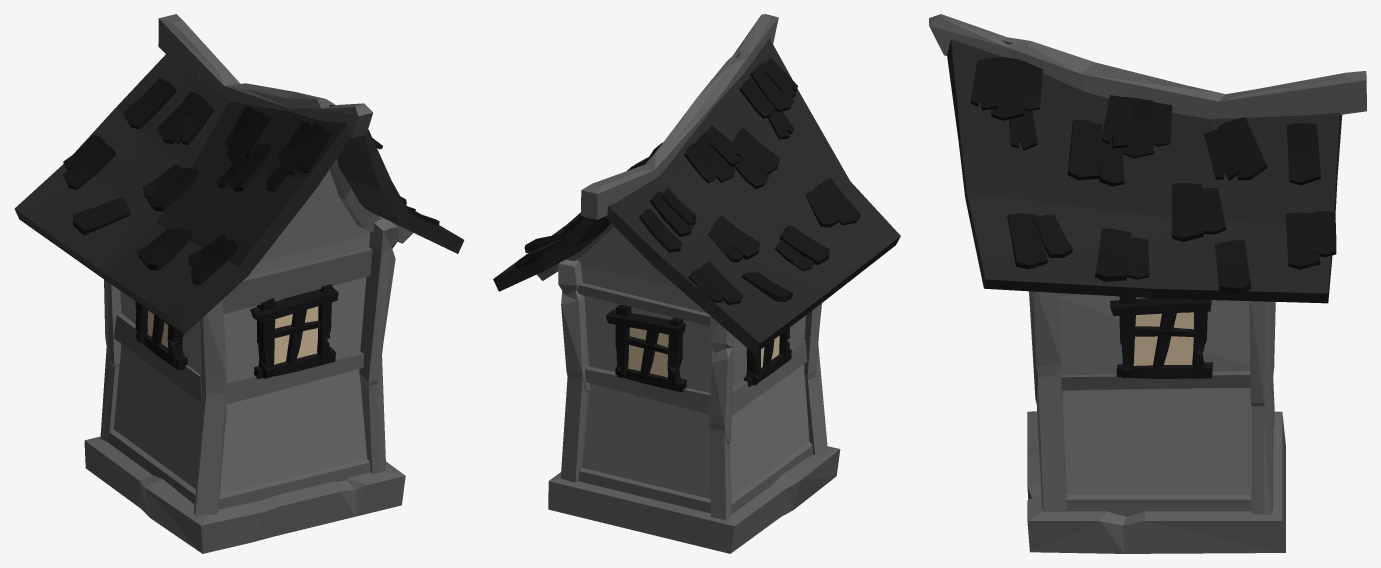
File: WF_LP_HT_Build_HouseRoom.005.1.fbx
The picture shows the model from 3 angles, left to right: view 1: azimuth 30°, elevation 25°; view 2: azimuth 150°, elevation 25°; view 3: azimuth 270°, elevation 25°; orthographic projection. The views are drawn at different scales.
Visible parts, largest first — view 1: WF_LP_HT_Build_HouseRoom.005.1; view 2: WF_LP_HT_Build_HouseRoom.005.1; view 3: WF_LP_HT_Build_HouseRoom.005.1.
Boxes of the visible parts, x1=… form: WF_LP_HT_Build_HouseRoom.005.1: x1=14, y1=14, x2=464, y2=553; WF_LP_HT_Build_HouseRoom.005.1: x1=493, y1=14, x2=900, y2=553; WF_LP_HT_Build_HouseRoom.005.1: x1=929, y1=14, x2=1366, y2=553.
Bounding box in the file's own units: 4.39 × 6.3 × 5.08.
